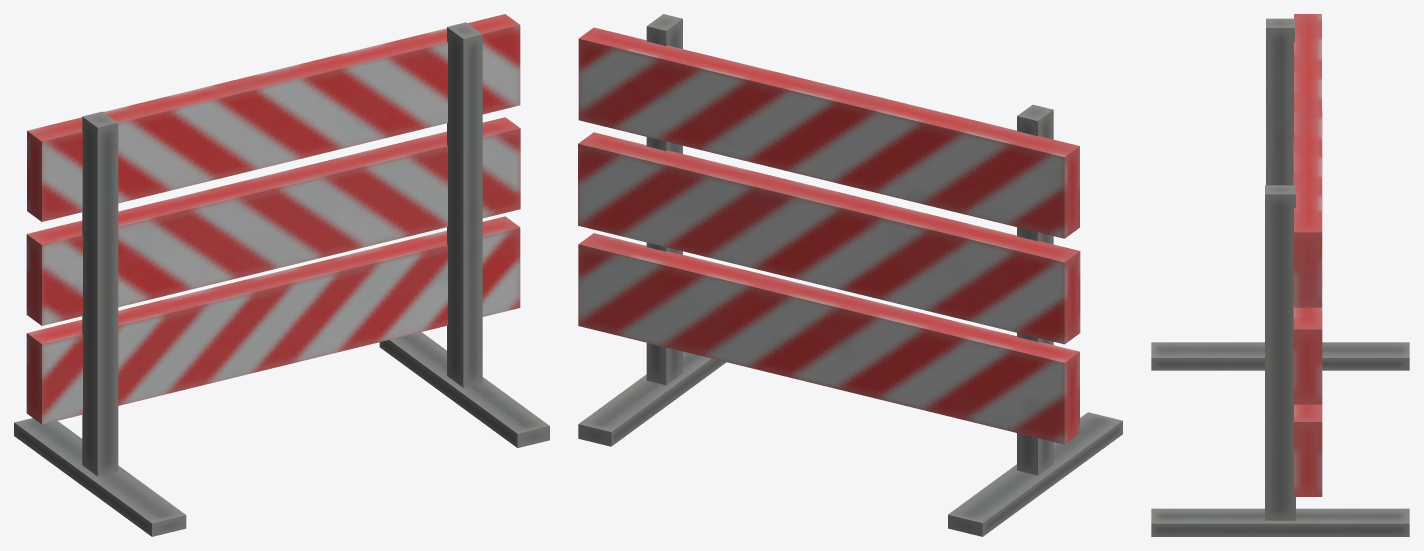
The model's file is Pfb_Roadblock__4.fbx.
The picture shows the model from 3 angles, left to right: view 1: azimuth 30°, elevation 25°; view 2: azimuth 150°, elevation 25°; view 3: azimuth 270°, elevation 25°; orthographic projection. The views are drawn at different scales.
Visible parts, largest first — view 1: Mat_Roadblocks01; view 2: Mat_Roadblocks01; view 3: Mat_Roadblocks01.
Part boxes in pixels (x1,y1,x2,y2): Mat_Roadblocks01: (14,14,549,536); Mat_Roadblocks01: (578,14,1122,536); Mat_Roadblocks01: (1151,14,1409,536).
Bounding box in the file's own units: 1.35 × 0.9764 × 0.672.
Materials: 1 (1 with a texture image).
